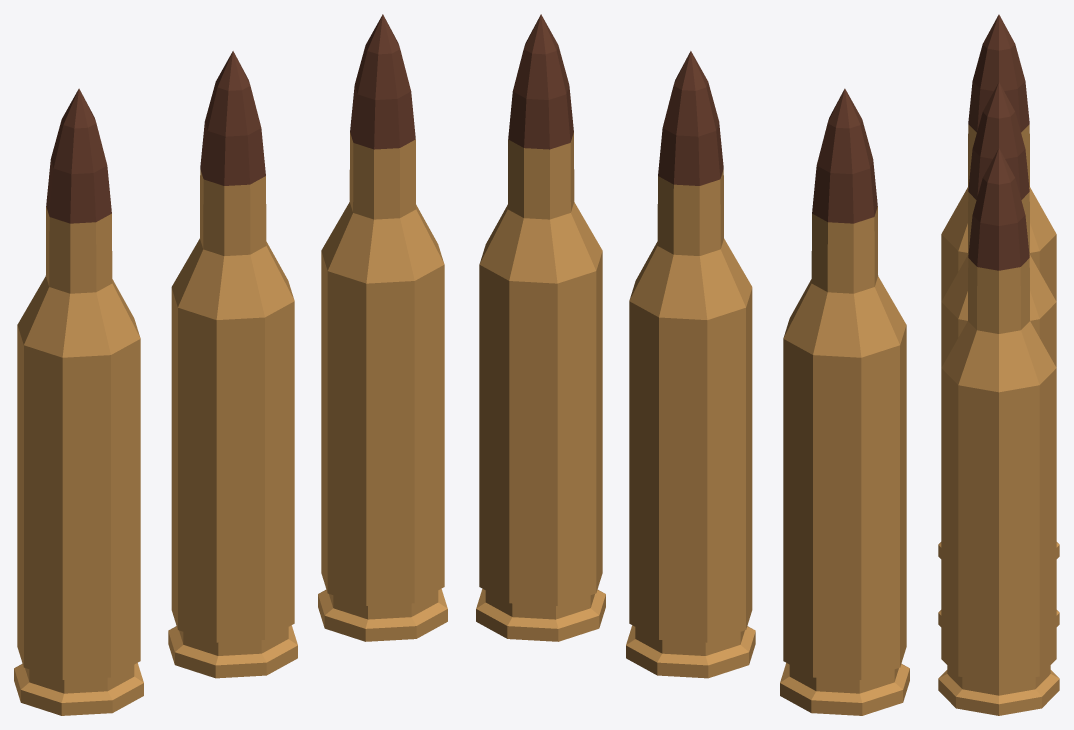
The model's file is SM_Icon_Ammo_01.fbx.
3 views of the same model, side by side, from view 1: azimuth 30°, elevation 25°; view 2: azimuth 150°, elevation 25°; view 3: azimuth 270°, elevation 25° (orthographic). The views are drawn at different scales.
Visible parts, largest first — view 1: SM_Icon_Ammo_01; view 2: SM_Icon_Ammo_01; view 3: SM_Icon_Ammo_01.
Boxes of the visible parts, box(x1,y1,x2,y2) form: SM_Icon_Ammo_01: box(14, 14, 447, 715); SM_Icon_Ammo_01: box(476, 14, 909, 715); SM_Icon_Ammo_01: box(938, 14, 1059, 715).
Size of the model in its own units: 63.97 by 87.32 by 17.73.
